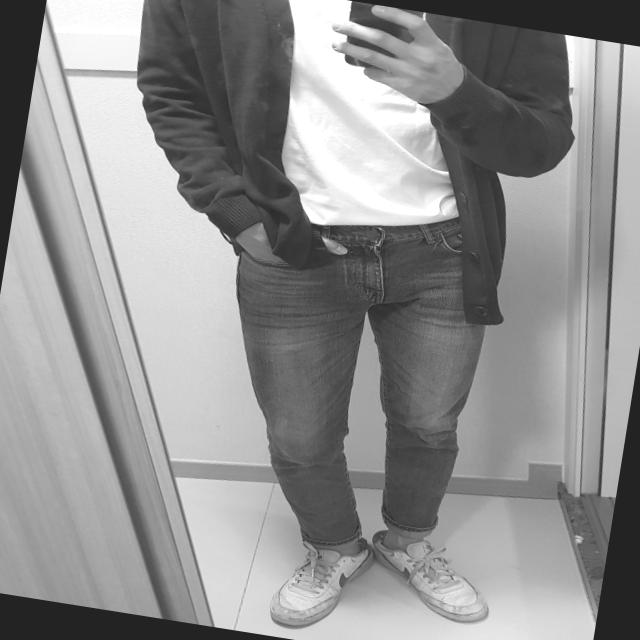cardigan: (101, 0, 590, 334)
denimpants: (193, 183, 499, 568)
